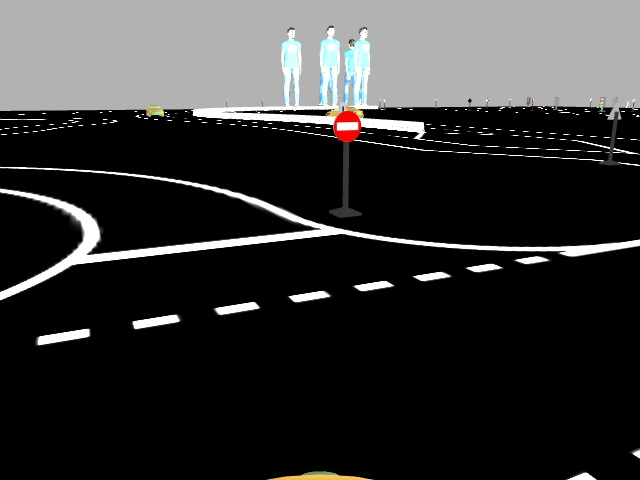NoEntry: (329, 111, 362, 141)
